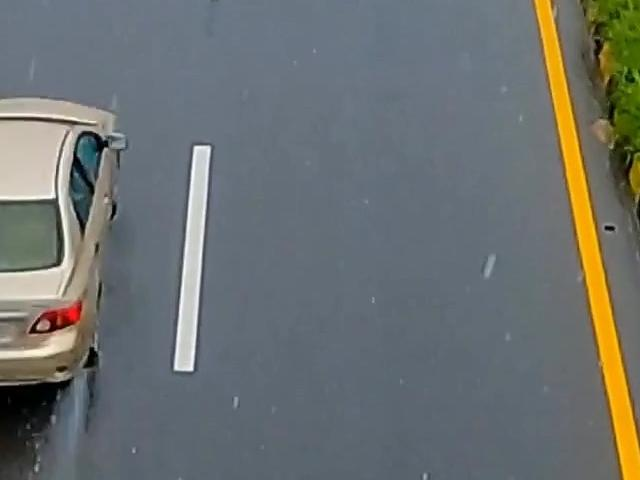car: (0, 86, 140, 406)
